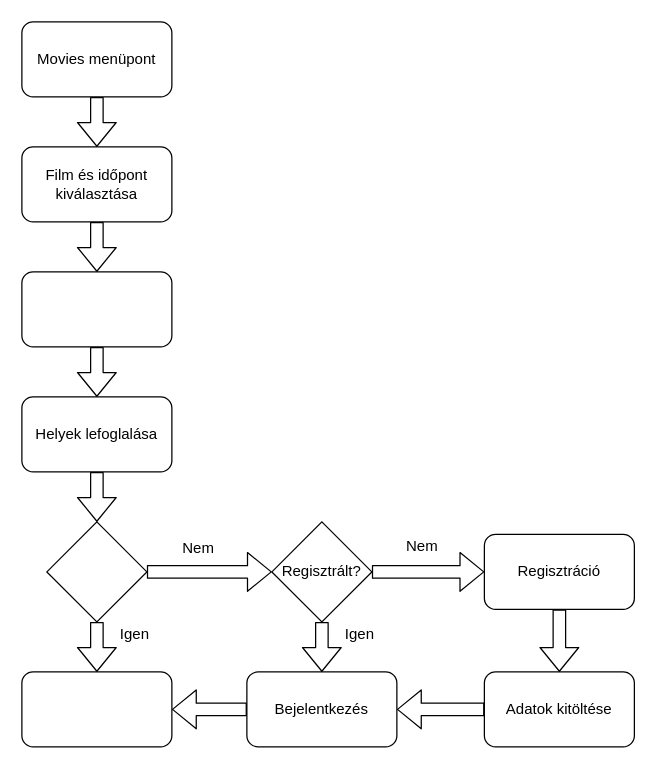
This 656x769 diagram has some shape labels left out. Each missing label, with the box of its shape:
Azonosított?: (46, 521, 147, 622)
Jegytípusok kiválasztása: (21, 271, 172, 347)
Jegyvétel véglegesítése: (21, 671, 172, 747)
